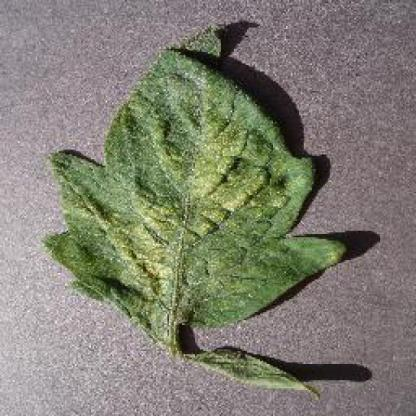Tomato_Spider_Mites: (46, 28, 344, 390)
